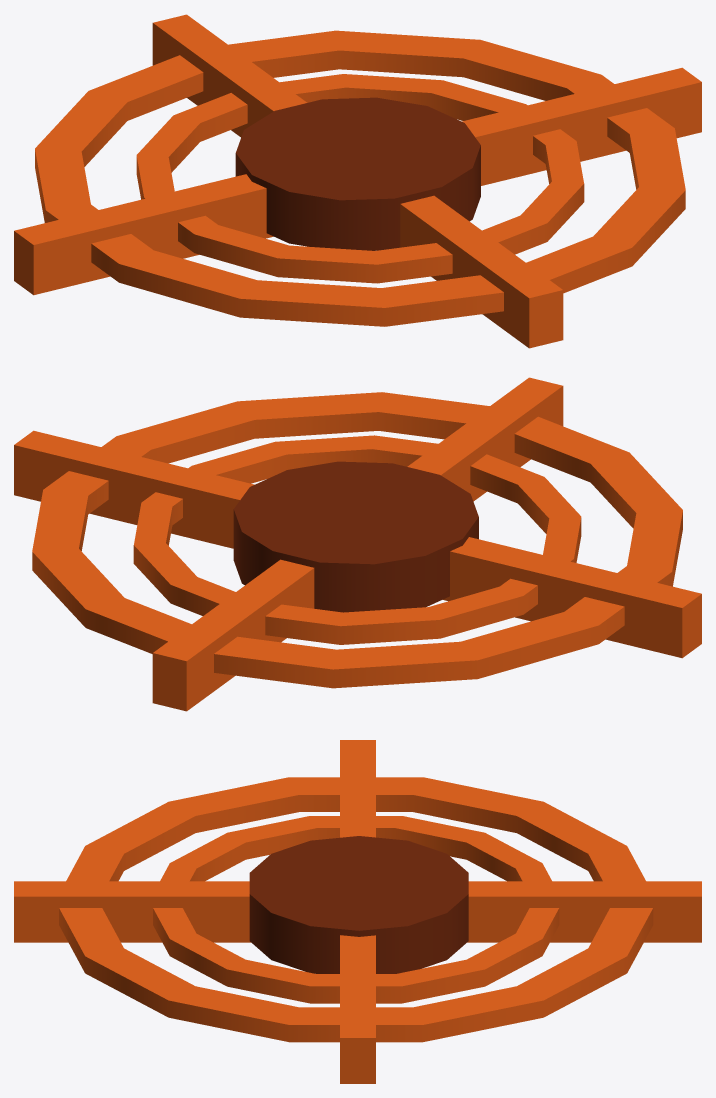
File: miao.fbx
3 renders of one model, top to bottom at view 1: azimuth 30°, elevation 25°; view 2: azimuth 150°, elevation 25°; view 3: azimuth 270°, elevation 25°, orthographic. The views are drawn at different scales.
Parts seen in each view (by area): view 1: miao; view 2: miao; view 3: miao.
Part boxes in pixels (bbox=[...]): miao: bbox=[14, 14, 701, 348]; miao: bbox=[14, 377, 701, 711]; miao: bbox=[14, 740, 701, 1083].
Bounding box in the file's own units: 196 × 15.97 × 192.
